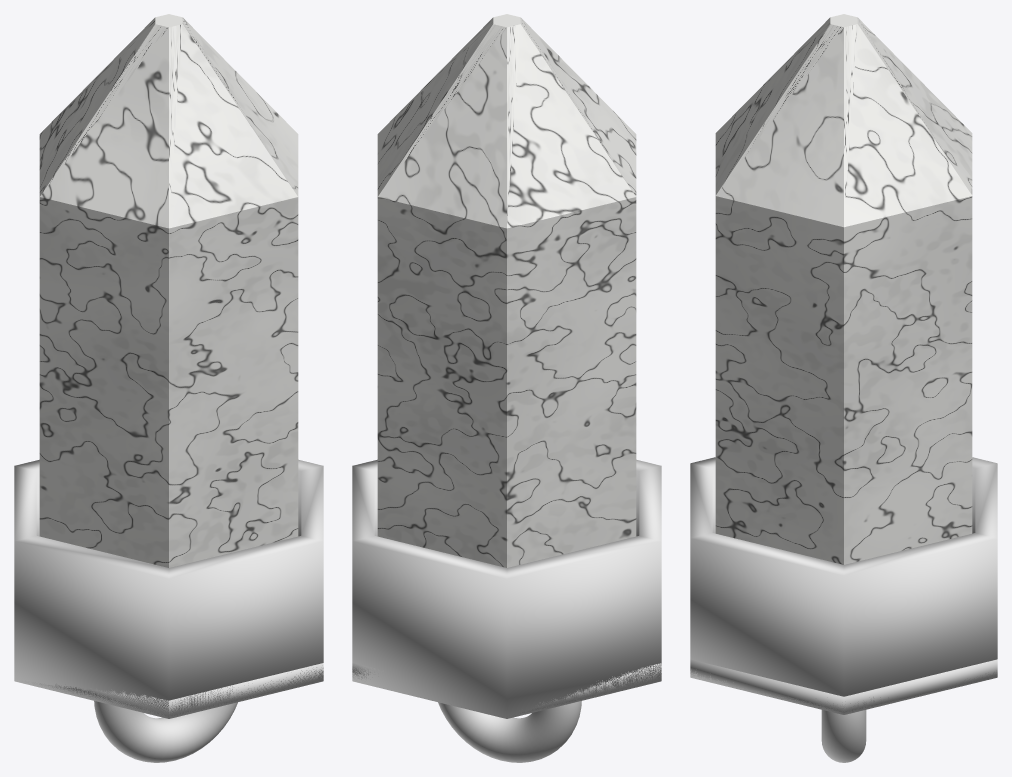
The model's file is crystal-charm.glb.
The picture shows the model from 3 angles, left to right: view 1: azimuth 30°, elevation 25°; view 2: azimuth 150°, elevation 25°; view 3: azimuth 270°, elevation 25°; orthographic projection.
Parts seen in each view (by area): view 1: prism, 44; view 2: prism, 44; view 3: prism, 44.
Part boxes in pixels (x1,y1,x2,y2): prism: [39, 14, 298, 567]; 44: [14, 459, 323, 762]; prism: [377, 14, 636, 567]; 44: [352, 459, 661, 762]; prism: [715, 14, 972, 564]; 44: [690, 457, 997, 762].
Size of the model in its own units: 8.95 by 20.44 by 7.75.
1 material, 1 textured.
